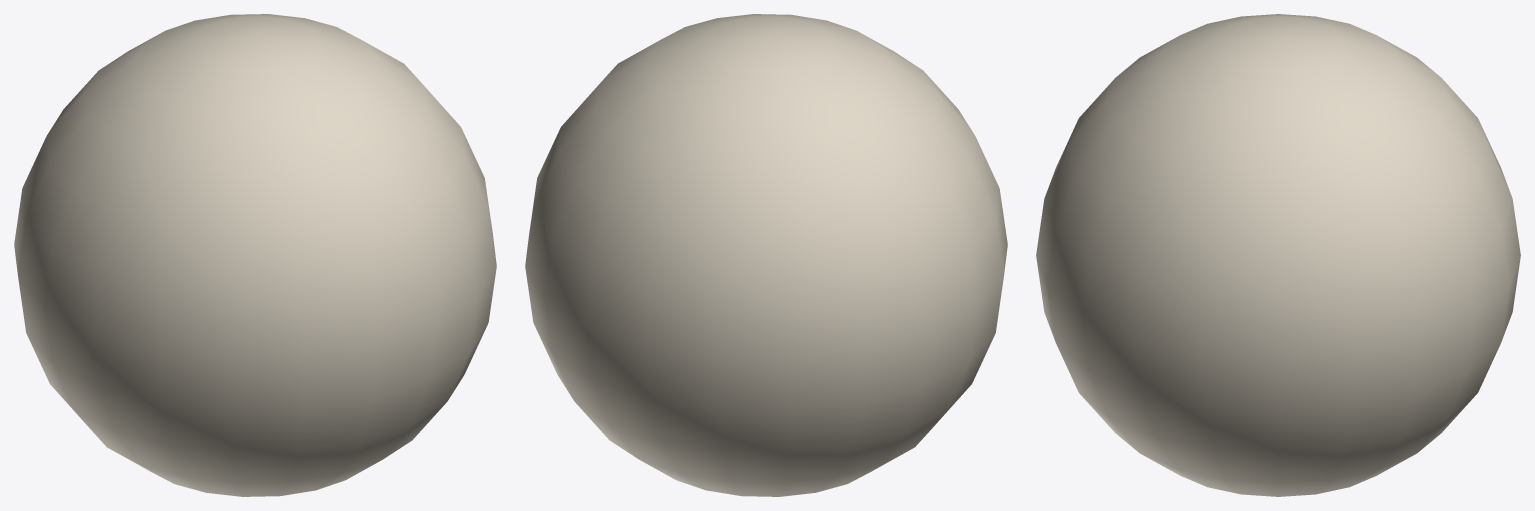
Rendered from foam-puff.obj.
3 views of the same model, side by side, from view 1: azimuth 30°, elevation 25°; view 2: azimuth 150°, elevation 25°; view 3: azimuth 270°, elevation 25° (orthographic).
Visible parts, largest first — view 1: foam-puff_cream; view 2: foam-puff_cream; view 3: foam-puff_cream.
Part boxes in pixels (left/top/right/bottom): foam-puff_cream: left=14, top=14, right=496, bottom=496; foam-puff_cream: left=525, top=14, right=1007, bottom=496; foam-puff_cream: left=1036, top=14, right=1520, bottom=496.
Size of the model in its own units: 0.12 by 0.12 by 0.12.
